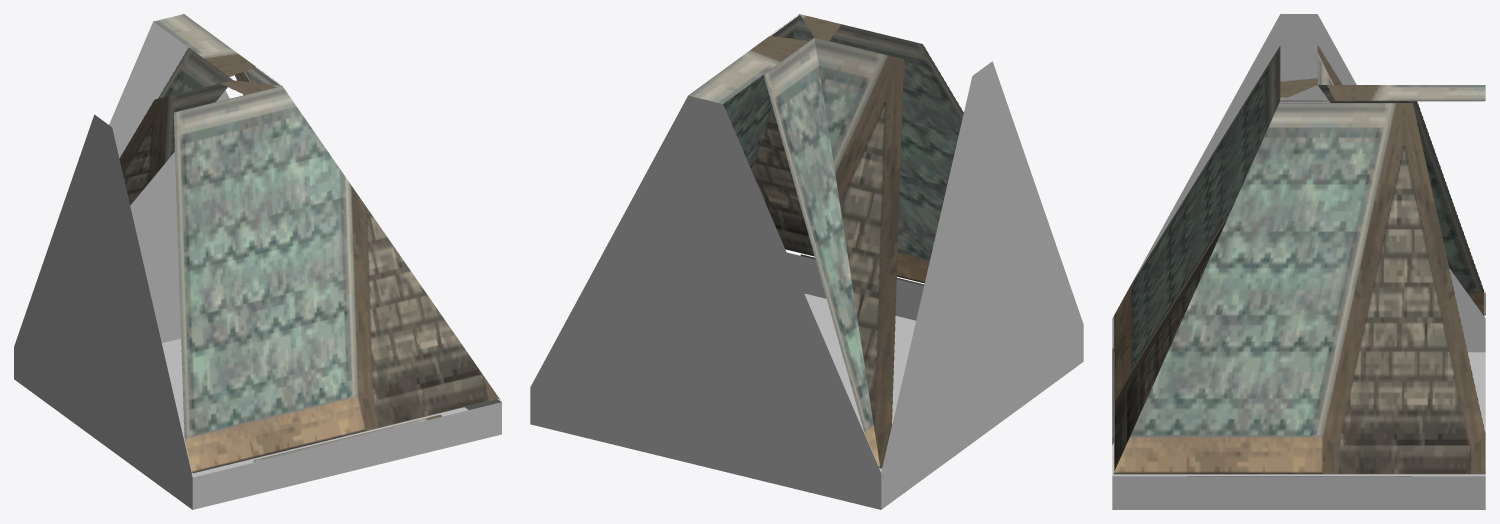
File: roof_corner.fbx
3 views of the same model, side by side, from view 1: azimuth 30°, elevation 25°; view 2: azimuth 150°, elevation 25°; view 3: azimuth 270°, elevation 25° (orthographic). The views are drawn at different scales.
Visible parts, largest first — view 1: roof_corner; view 2: roof_corner; view 3: roof_corner.
Boxes of the visible parts, bbox=[...] form: roof_corner: bbox=[14, 14, 501, 509]; roof_corner: bbox=[530, 14, 1083, 509]; roof_corner: bbox=[1112, 14, 1485, 509].
Size of the model in its own units: 10 by 10 by 10.
